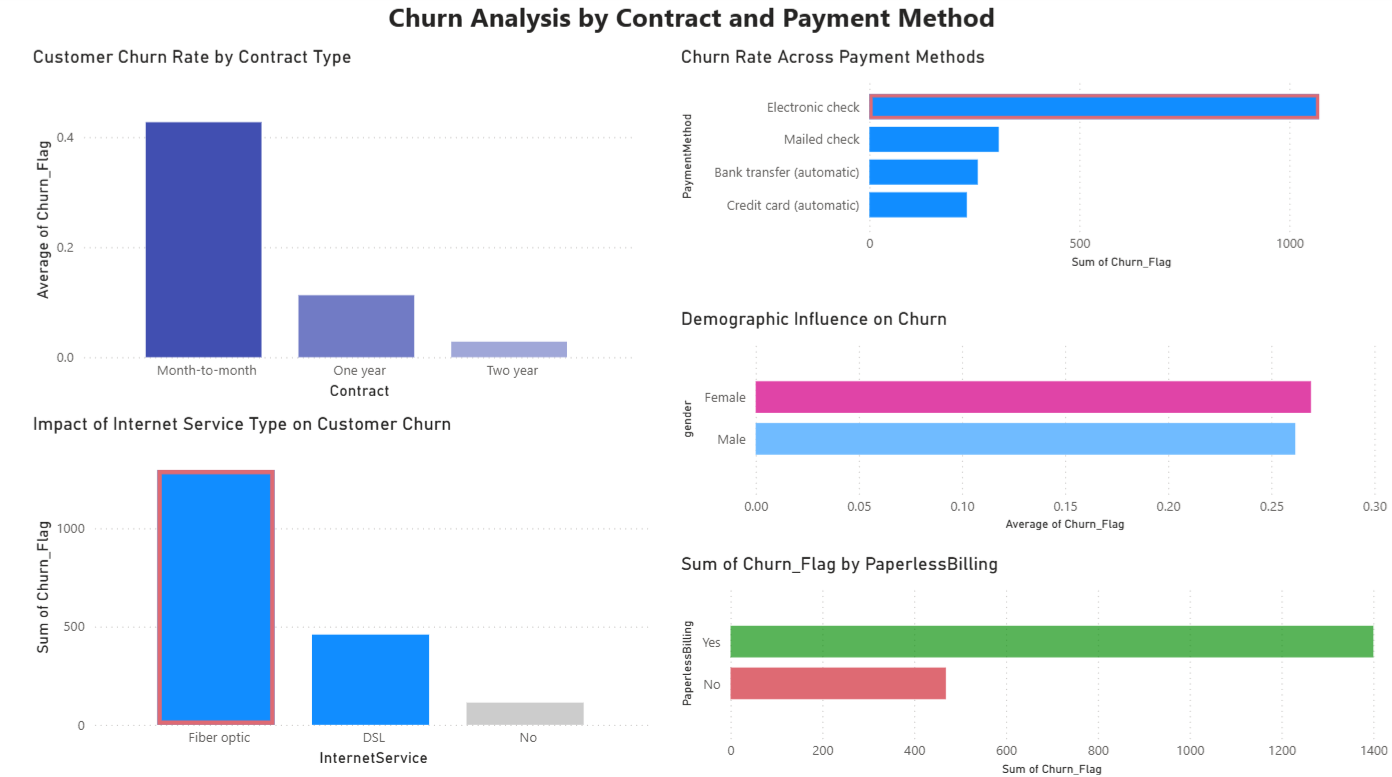

This screenshot's page, from the dashboard's own definition file:
{"tool":"powerbi","page":{"name":"Contract & Payment Analysis","canvas":[1280,720],"ordinal":1},"visuals":[{"type":"textbox","box":[352,0,576,64],"z":0},{"type":"clusteredColumnChart","title":"Customer Churn Rate by Contract Type","fields":{"Y":["Avg(WA_Fn-UseC_-Telco-Customer-Churn.Churn_Flag)"],"Category":["WA_Fn-UseC_-Telco-Customer-Churn.Contract"]},"box":[32,48,560,328],"z":1000},{"type":"clusteredBarChart","title":"Churn Rate Across Payment Methods","fields":{"Y":["Sum(WA_Fn-UseC_-Telco-Customer-Churn.Churn_Flag)"],"Category":["WA_Fn-UseC_-Telco-Customer-Churn.PaymentMethod"]},"box":[624,48,656,208],"z":2000},{"type":"clusteredBarChart","fields":{"Category":["WA_Fn-UseC_-Telco-Customer-Churn.PaperlessBilling"],"Y":["Sum(WA_Fn-UseC_-Telco-Customer-Churn.Churn_Flag)"]},"box":[624,512,656,208],"z":3000},{"type":"clusteredColumnChart","title":"Impact of Internet Service Type on Customer Churn","fields":{"Category":["WA_Fn-UseC_-Telco-Customer-Churn.InternetService"],"Y":["Sum(WA_Fn-UseC_-Telco-Customer-Churn.Churn_Flag)"]},"box":[32,384,576,328],"z":4000},{"type":"clusteredBarChart","title":"Demographic Influence on Churn","fields":{"Category":["WA_Fn-UseC_-Telco-Customer-Churn.gender"],"Y":["Avg(WA_Fn-UseC_-Telco-Customer-Churn.Churn_Flag)"]},"box":[624,288,656,208],"z":6000}]}

Visuals, with their boxes in screenshot pixels (x1, y1, x2, y2), scaled from the page's 1280x720 canvas onto the 1392x777 screenshot:
textbox: 383,0,1009,69
"Customer Churn Rate by Contract Type" clusteredColumnChart: 35,52,644,406
"Churn Rate Across Payment Methods" clusteredBarChart: 679,52,1391,276
clusteredBarChart - WA_Fn-UseC_-Telco-Customer-Churn.PaperlessBilling x Sum(WA_Fn-UseC_-Telco-Customer-Churn.Churn_Flag): 679,553,1391,776
"Impact of Internet Service Type on Customer Churn" clusteredColumnChart: 35,414,661,768
"Demographic Influence on Churn" clusteredBarChart: 679,311,1391,535
